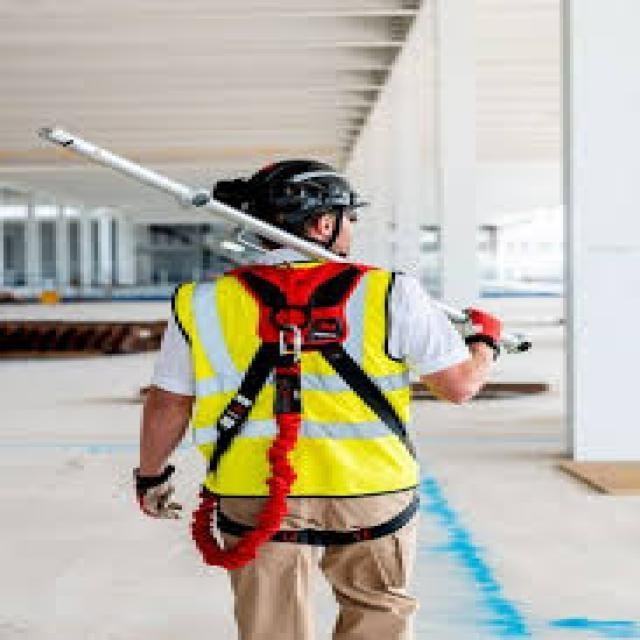Arnes_seguridad: (158, 249, 424, 575)
